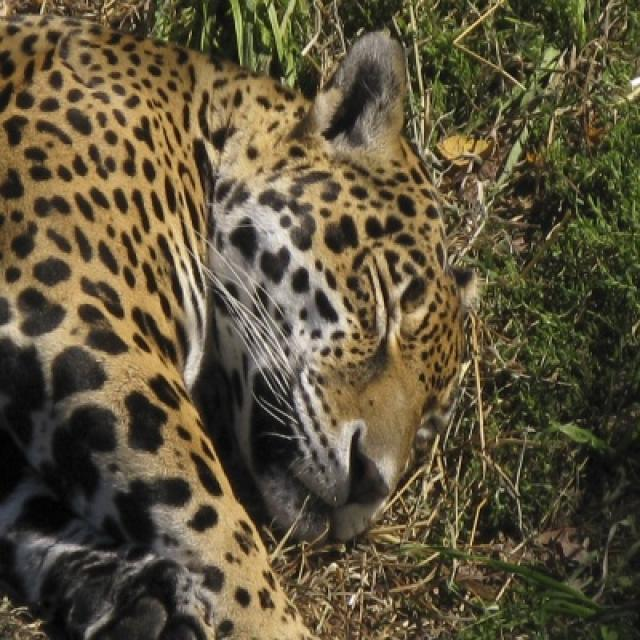Jaguar: (0, 0, 480, 638)
